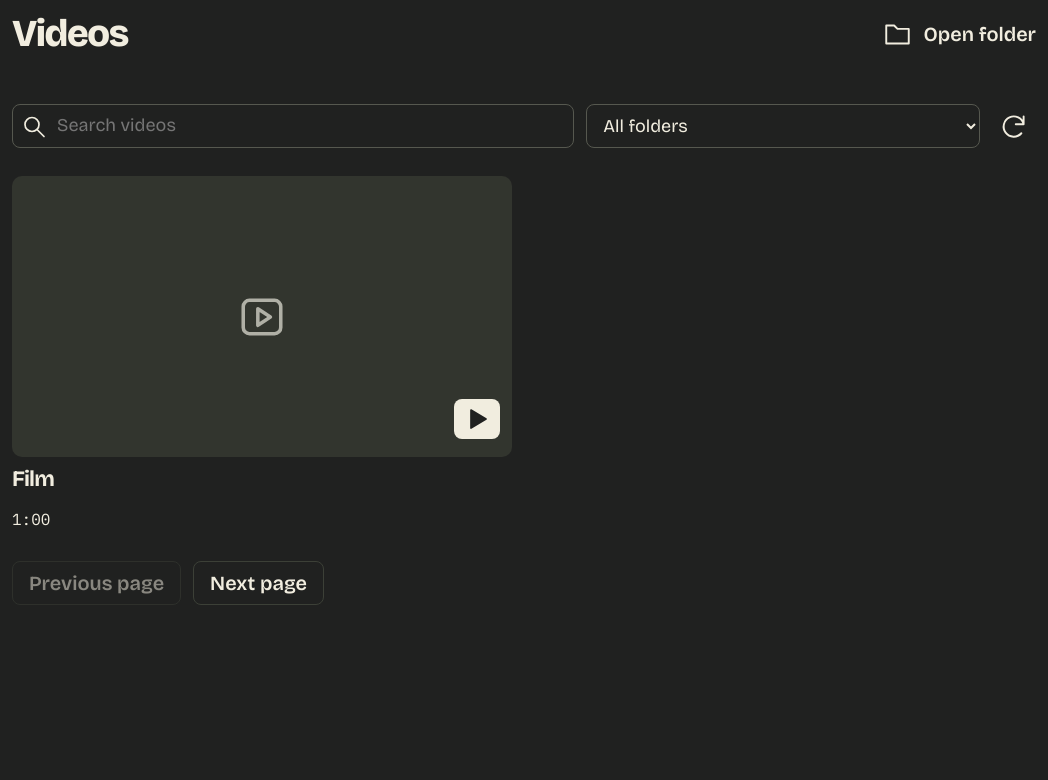
Test case: returns to the previous results when the next page fails
The width and height of the screenshot is (1048, 780).
Step 1. Click the button "Next page" → coordinates (259, 583), box top-left (193, 561), bottom-right (324, 605)
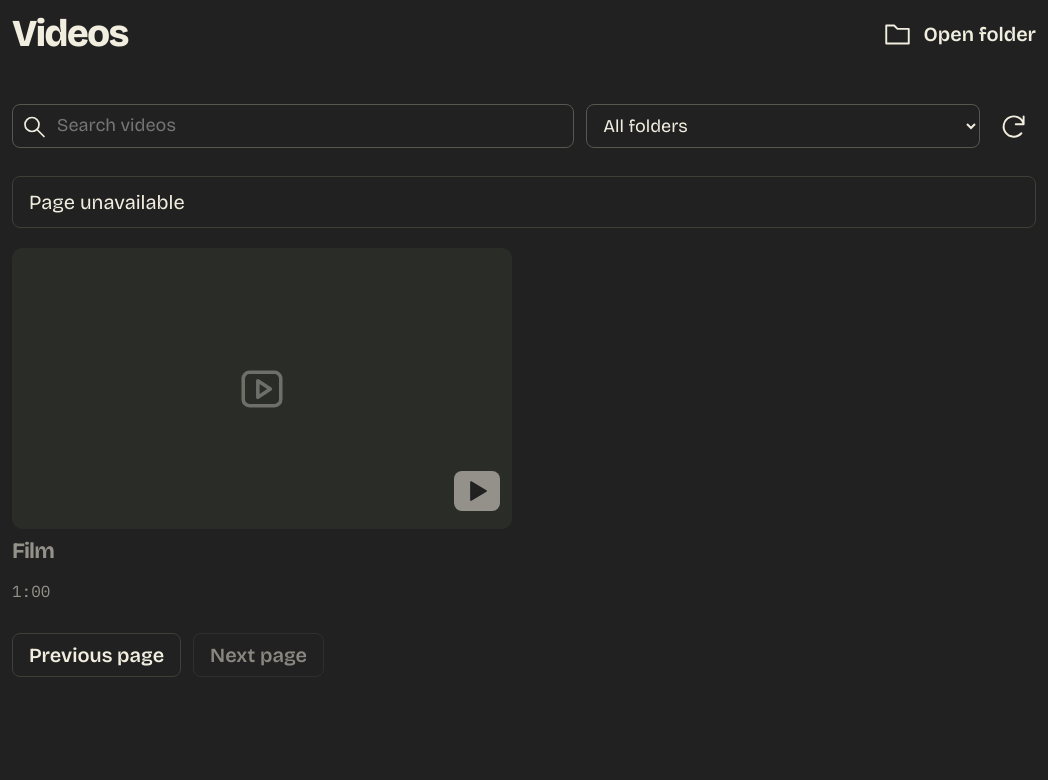
Check: the message reads "Page unavailable", box top-left (29, 190), bottom-right (185, 214)
Check: the button "Next page" is disabled, box top-left (193, 633), bottom-right (324, 677)
Step 2. Click the button "Previous page" → coordinates (97, 655), box top-left (12, 633), bottom-right (181, 677)
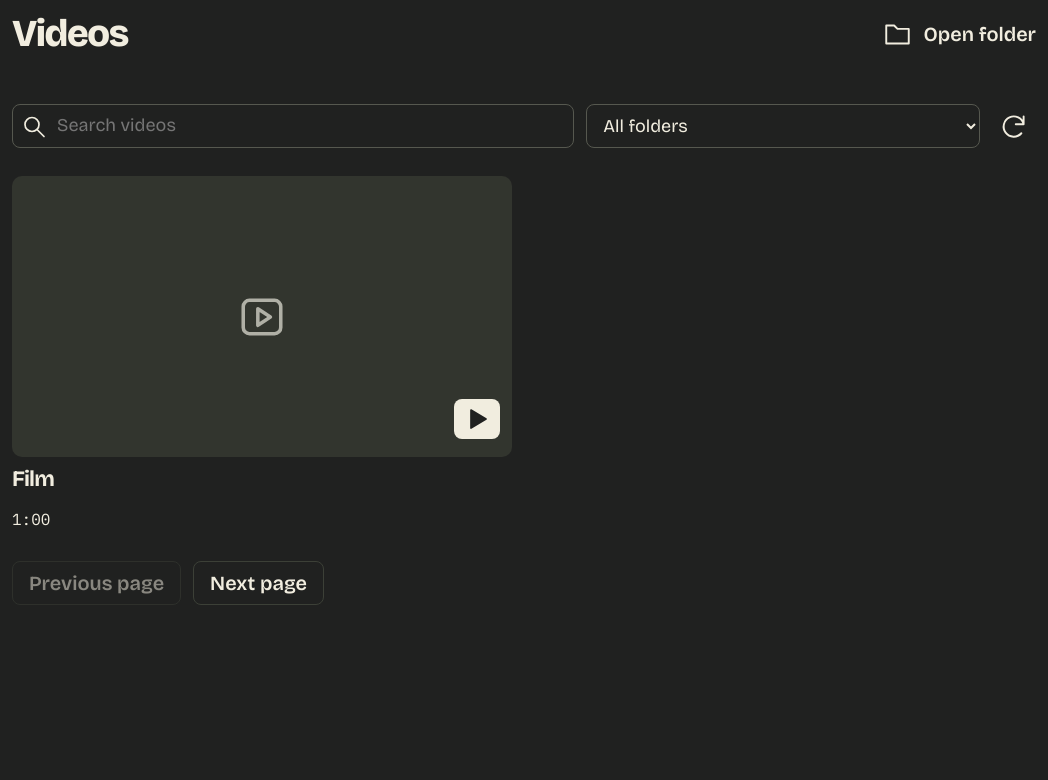
Check: the button with aria-label "Play Film" is enabled, box top-left (12, 176), bottom-right (512, 541)
